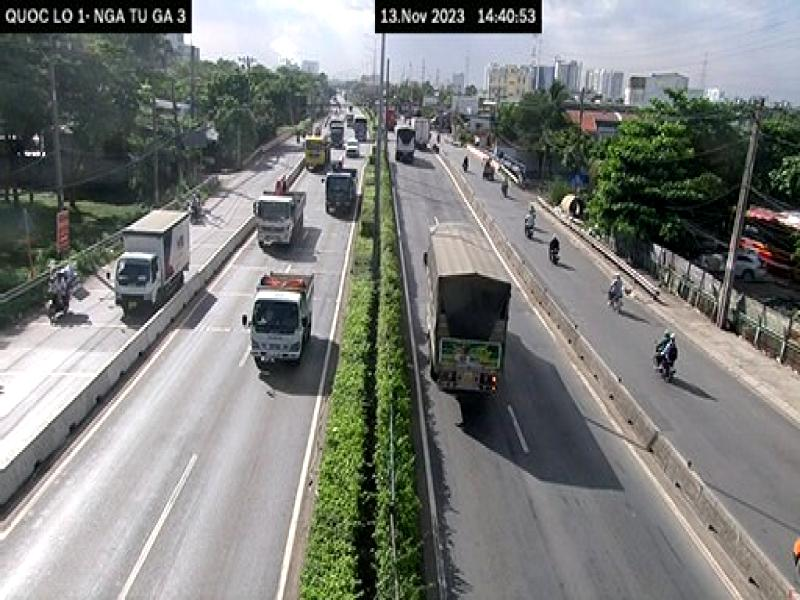truck: (419, 214, 515, 399), (114, 201, 196, 320), (243, 262, 322, 372), (252, 176, 310, 256)
